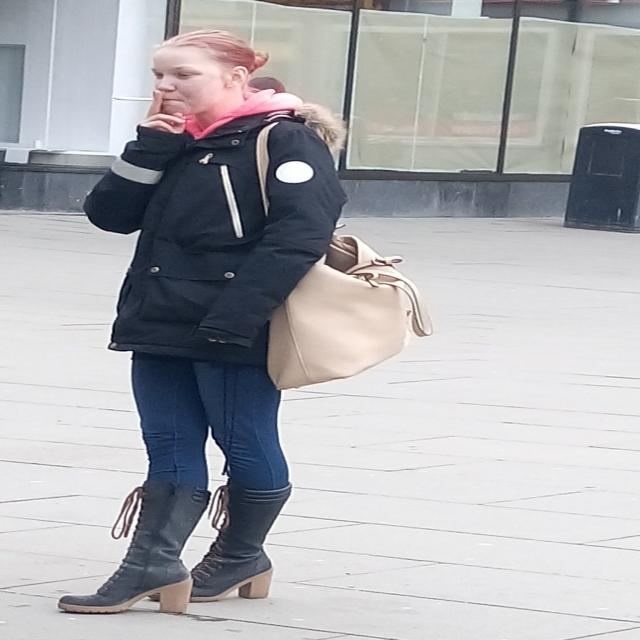smoke: (96, 89, 170, 114)
